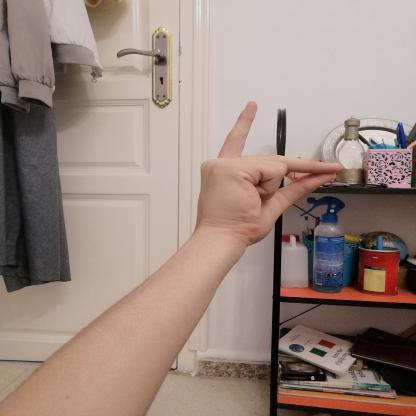TAA: (180, 93, 352, 252)
